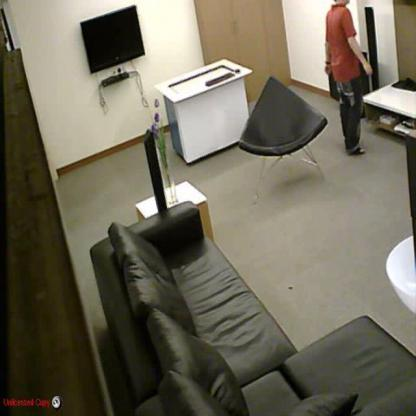Person: (324, 0, 374, 157)
